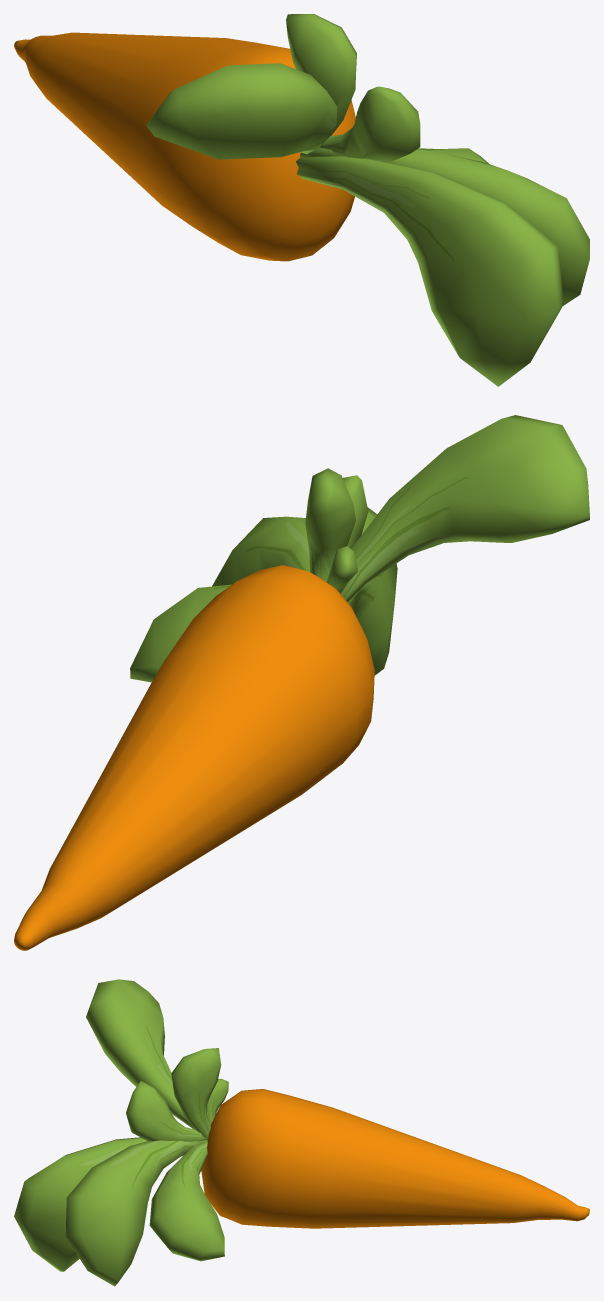
File: carrot-whole.FBX
3 renders of one model, top to bottom at view 1: azimuth 30°, elevation 25°; view 2: azimuth 150°, elevation 25°; view 3: azimuth 270°, elevation 25°, orthographic. The views are drawn at different scales.
Visible parts, largest first — view 1: Carrot, Carrot Leaf002, Carrot Leaf004, Carrot Leaf, Carrot Leaf003, Carrot Leaf005; view 2: Carrot, Carrot Leaf004, Carrot Leaf, Carrot Leaf005, Carrot Leaf001, Carrot Leaf002, Carrot Leaf003, Carrot Leaf006; view 3: Carrot, Carrot Leaf, Carrot Leaf004, Carrot Leaf002, Carrot Leaf001, Carrot Leaf005, Carrot Leaf003, Carrot Leaf006.
Part boxes in pixels (left/top/right/bottom): Carrot: left=14, top=32, right=355, bottom=261; Carrot Leaf002: left=296, top=156, right=563, bottom=386; Carrot Leaf004: left=146, top=63, right=337, bottom=159; Carrot Leaf: left=299, top=147, right=589, bottom=305; Carrot Leaf003: left=320, top=86, right=420, bottom=161; Carrot Leaf005: left=286, top=14, right=356, bottom=135; Carrot: left=14, top=565, right=374, bottom=950; Carrot Leaf004: left=341, top=415, right=589, bottom=601; Carrot Leaf: left=212, top=516, right=309, bottom=586; Carrot Leaf005: left=305, top=468, right=355, bottom=581; Carrot Leaf001: left=130, top=584, right=231, bottom=682; Carrot Leaf002: left=348, top=507, right=397, bottom=675; Carrot Leaf003: left=343, top=475, right=368, bottom=548; Carrot Leaf006: left=327, top=546, right=357, bottom=593; Carrot: left=201, top=1089, right=589, bottom=1228; Carrot Leaf: left=65, top=1140, right=207, bottom=1286; Carrot Leaf004: left=86, top=979, right=194, bottom=1129; Carrot Leaf002: left=14, top=1137, right=183, bottom=1271; Carrot Leaf001: left=149, top=1140, right=224, bottom=1261; Carrot Leaf005: left=171, top=1048, right=221, bottom=1140; Carrot Leaf003: left=126, top=1081, right=208, bottom=1141; Carrot Leaf006: left=207, top=1078, right=228, bottom=1125.
Size of the model in its own units: 66.38 by 54.34 by 128.
